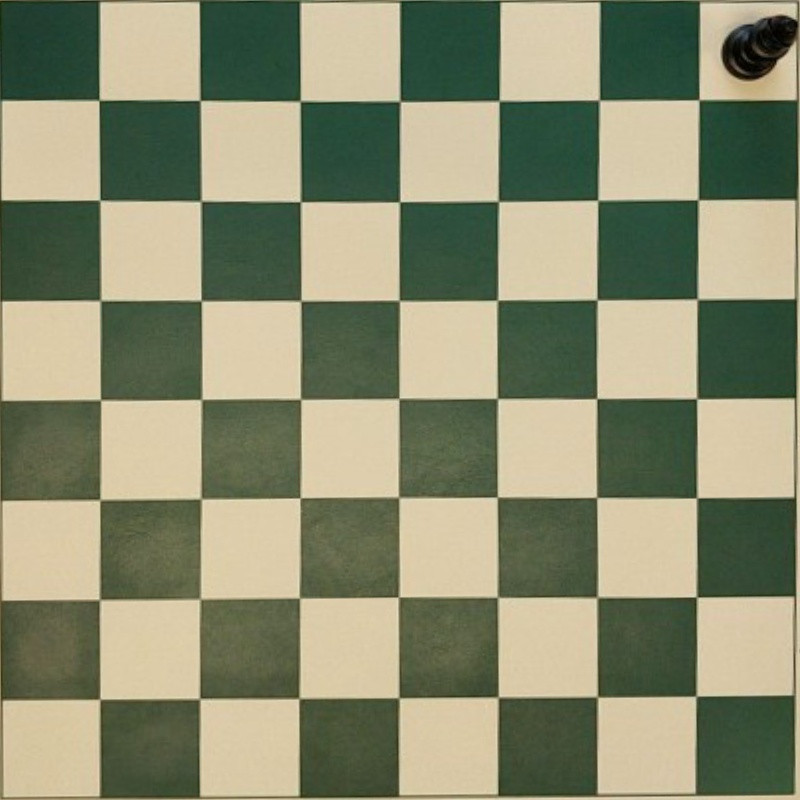black-bishop: (723, 13, 799, 80)
